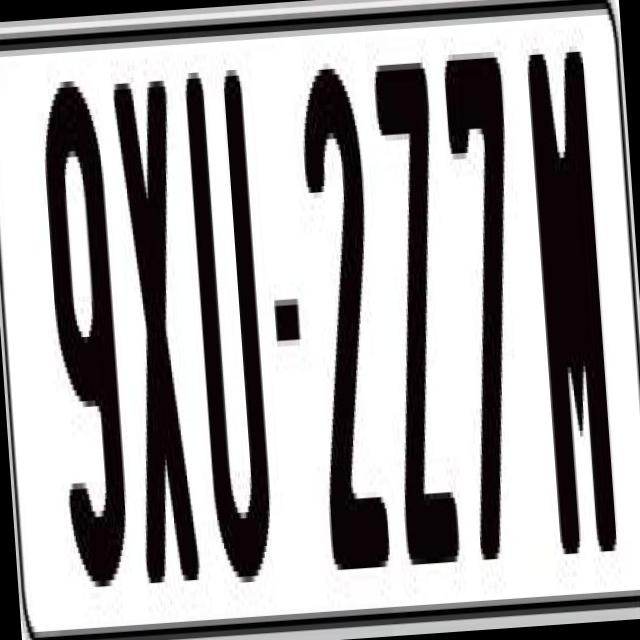2: (296, 61, 394, 600)
7: (438, 45, 538, 584)
9: (37, 78, 140, 617)
M: (522, 51, 616, 572)
U: (183, 57, 284, 601)
X: (108, 73, 204, 612)
Z: (368, 61, 466, 565)
